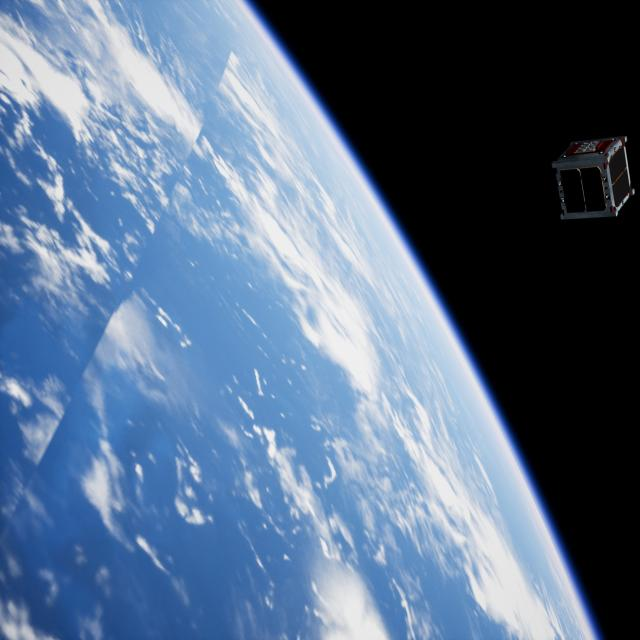satellite: (550, 125, 638, 225)
